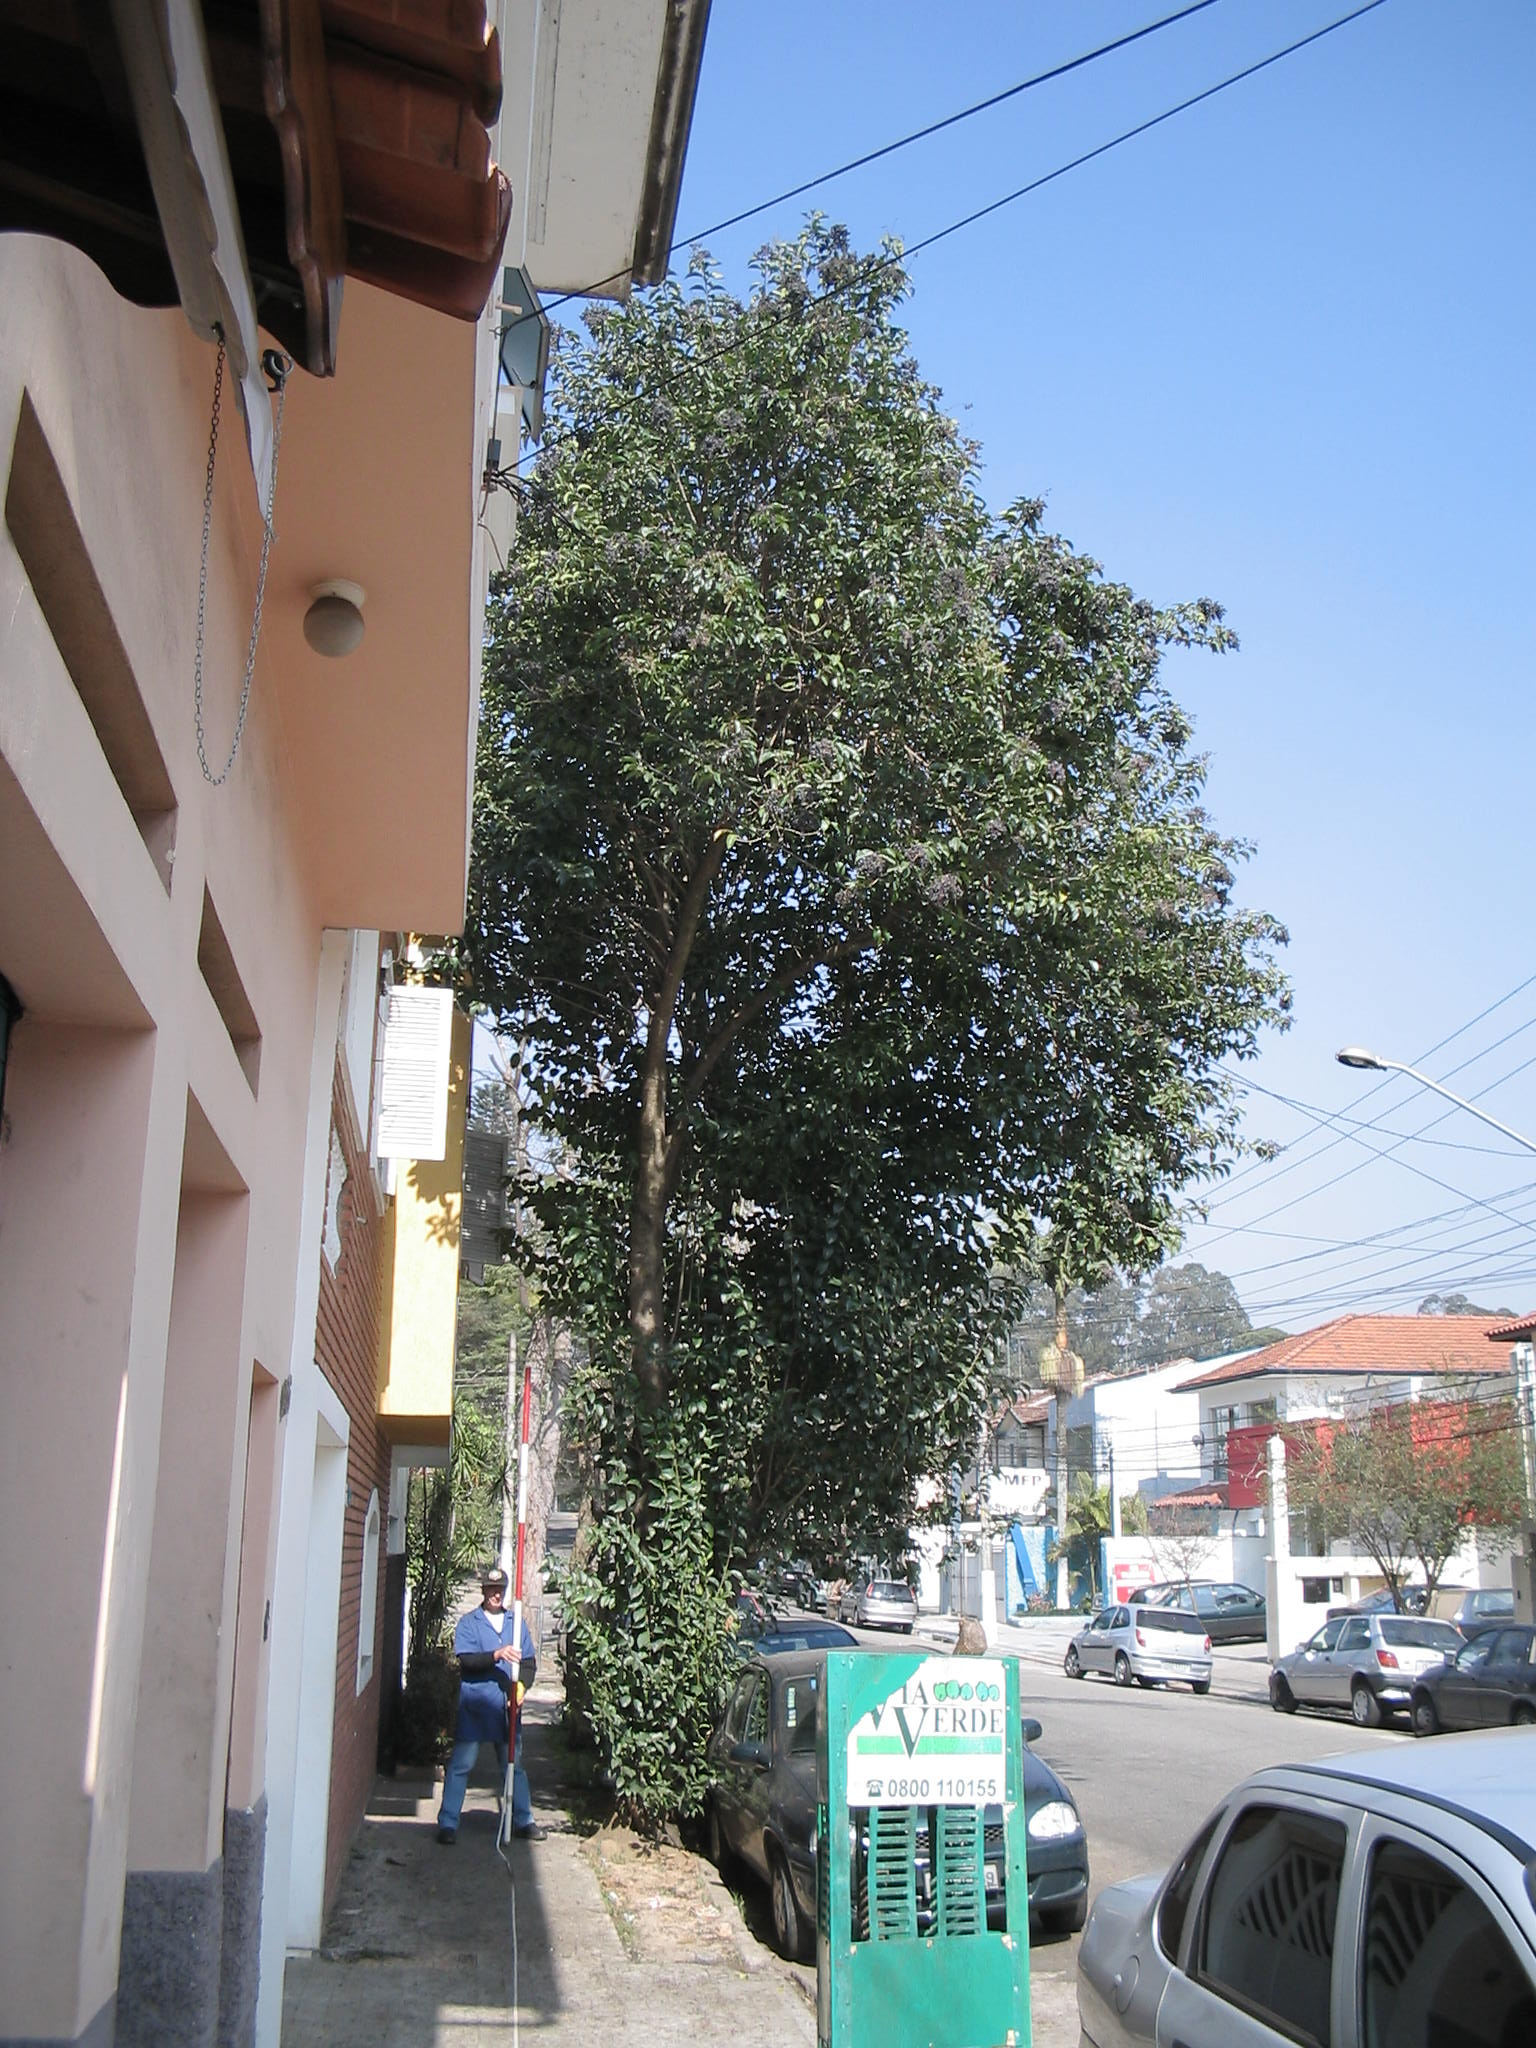crown: (482, 237, 1020, 1163)
stick: (478, 1366, 565, 1846)
tree: (473, 229, 1020, 1846), (1265, 1367, 1536, 1617)
